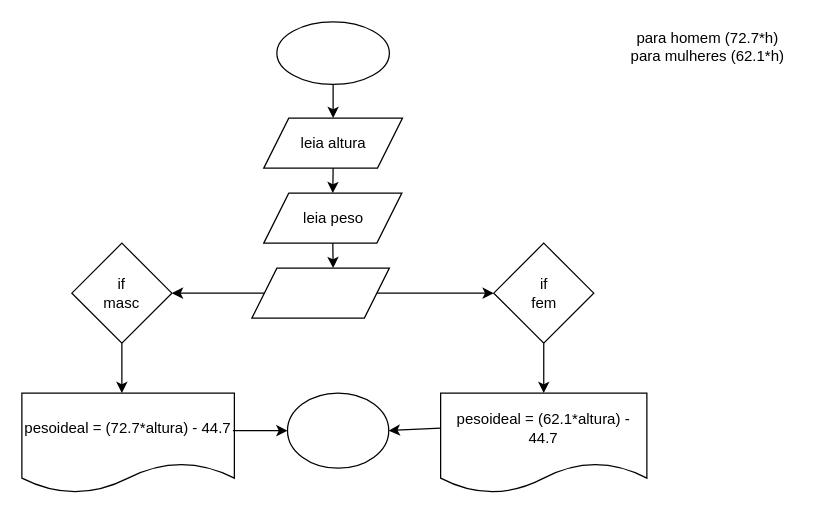
Image size: 825x515. Some labels were removed from this diagram. The box of each missing label's shape, as (x1, y1, x2, y2) in pixels:
fim: (286, 392, 389, 468)
inicio: (276, 21, 389, 84)
leia masc / fem: (251, 267, 389, 318)
